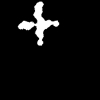single_crochet: (18, 2, 58, 44)
